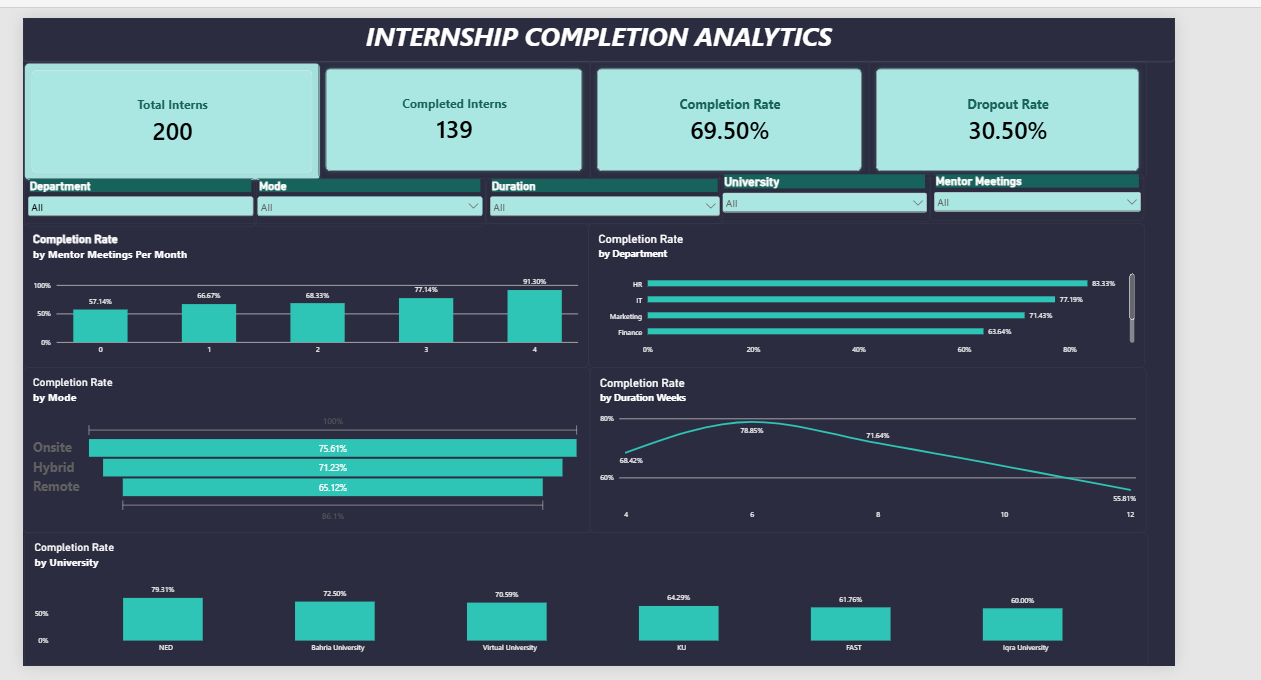

This screenshot's page, from the dashboard's own definition file:
{"tool":"powerbi","page":{"name":"Page 1","canvas":[1920,1080],"ordinal":0},"visuals":[{"type":"cardVisual","fields":{"Data":["Internship Data.Total Interns"]},"box":[2.5,75,492.5,195],"z":0},{"type":"cardVisual","fields":{"Data":["Internship Data.Completed Interns"]},"box":[492.5,72.5,452.5,195],"z":1000},{"type":"cardVisual","fields":{"Data":["Internship Data.Completion Rate"]},"box":[945,72.5,465,195],"z":2000},{"type":"cardVisual","fields":{"Data":["Internship Data.Dropout Rate"]},"box":[1410,72.5,462.5,195],"z":3000},{"type":"columnChart","title":"Completion Rate","fields":{"Category":["Internship Data.Mentor_Meetings_Per_Month"],"Y":["Internship Data.Completion Rate"]},"box":[0,342.5,942.5,240],"z":4000},{"type":"funnel","fields":{"Category":["Internship Data.Mode"],"Y":["Internship Data.Completion Rate"]},"box":[0,582.5,945,275],"z":5000},{"type":"clusteredBarChart","fields":{"Category":["Internship Data.Department"],"Y":["Internship Data.Completion Rate"]},"box":[942.5,342.5,927.5,240],"z":6000},{"type":"columnChart","fields":{"Category":["Internship Data.University"],"Y":["Internship Data.Completion Rate"]},"box":[2.5,857.5,1872.5,222.5],"z":7000},{"type":"slicer","fields":{"Values":["Internship Data.Department"]},"box":[3.3,266.7,386.7,80],"z":8000},{"type":"slicer","fields":{"Values":["Internship Data.Mode"]},"box":[385,267.5,386,80],"z":9000},{"type":"slicer","fields":{"Values":["Internship Data.University"]},"box":[1160.9,260.9,352,80],"z":10000},{"type":"slicer","fields":{"Values":["Internship Data.Duration_Weeks"]},"box":[771.2,266.2,394,76],"z":11000},{"type":"slicer","fields":{"Values":["Internship Data.Mentor_Meetings_Per_Month"]},"box":[1513,260.9,356,78],"z":12000},{"type":"textbox","box":[0,0,1920,72],"z":13000},{"type":"lineChart","title":"Completion Rate ","fields":{"Category":["Internship Data.Duration_Weeks"],"Y":["Internship Data.Completion Rate"]},"box":[945,582.5,927.5,275],"z":14000}]}

Visuals, with their boxes on the page's 1920x1080 design canvas (x1, y1, x2, y2). These are canvas units, not pixel positions in the 1261x680 screenshot, which may show the page scaled, cropped or inside an application window:
cardVisual - Internship Data.Total Interns: rect(2, 75, 495, 270)
cardVisual - Internship Data.Completed Interns: rect(492, 72, 945, 268)
cardVisual - Internship Data.Completion Rate: rect(945, 72, 1410, 268)
cardVisual - Internship Data.Dropout Rate: rect(1410, 72, 1872, 268)
"Completion Rate" columnChart: rect(0, 342, 942, 582)
funnel - Internship Data.Mode x Internship Data.Completion Rate: rect(0, 582, 945, 858)
clusteredBarChart - Internship Data.Department x Internship Data.Completion Rate: rect(942, 342, 1870, 582)
columnChart - Internship Data.University x Internship Data.Completion Rate: rect(2, 858, 1875, 1080)
slicer - Internship Data.Department: rect(3, 267, 390, 347)
slicer - Internship Data.Mode: rect(385, 268, 771, 348)
slicer - Internship Data.University: rect(1161, 261, 1513, 341)
slicer - Internship Data.Duration_Weeks: rect(771, 266, 1165, 342)
slicer - Internship Data.Mentor_Meetings_Per_Month: rect(1513, 261, 1869, 339)
textbox: rect(0, 0, 1920, 72)
"Completion Rate " lineChart: rect(945, 582, 1872, 858)
